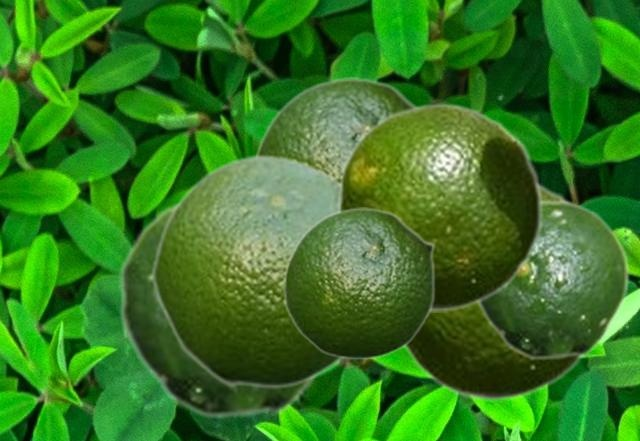calamansi: (150, 152, 346, 388), (118, 196, 324, 419), (336, 102, 543, 311), (402, 178, 589, 400), (475, 199, 629, 360), (283, 207, 435, 359), (252, 77, 420, 178)
